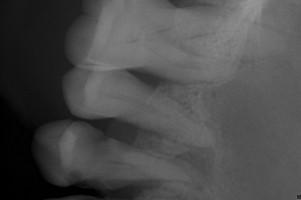Furcation Involvement: (176, 148, 216, 179)
